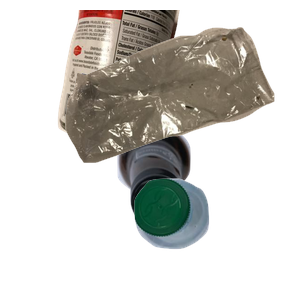glass: (115, 120, 300, 300)
metal: (55, 10, 227, 149)
plastic: (132, 176, 300, 300)
trash: (63, 24, 300, 179)
